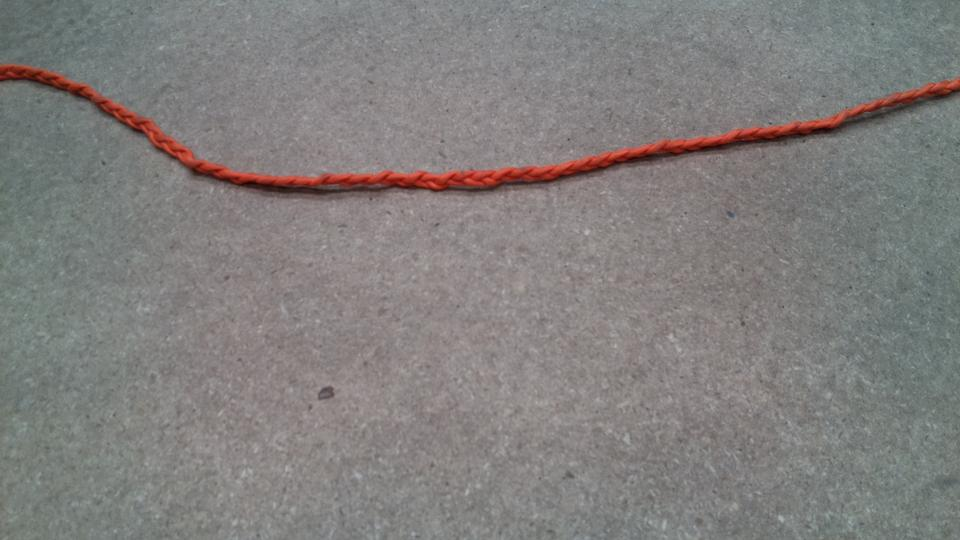rope: (2, 61, 958, 196)
